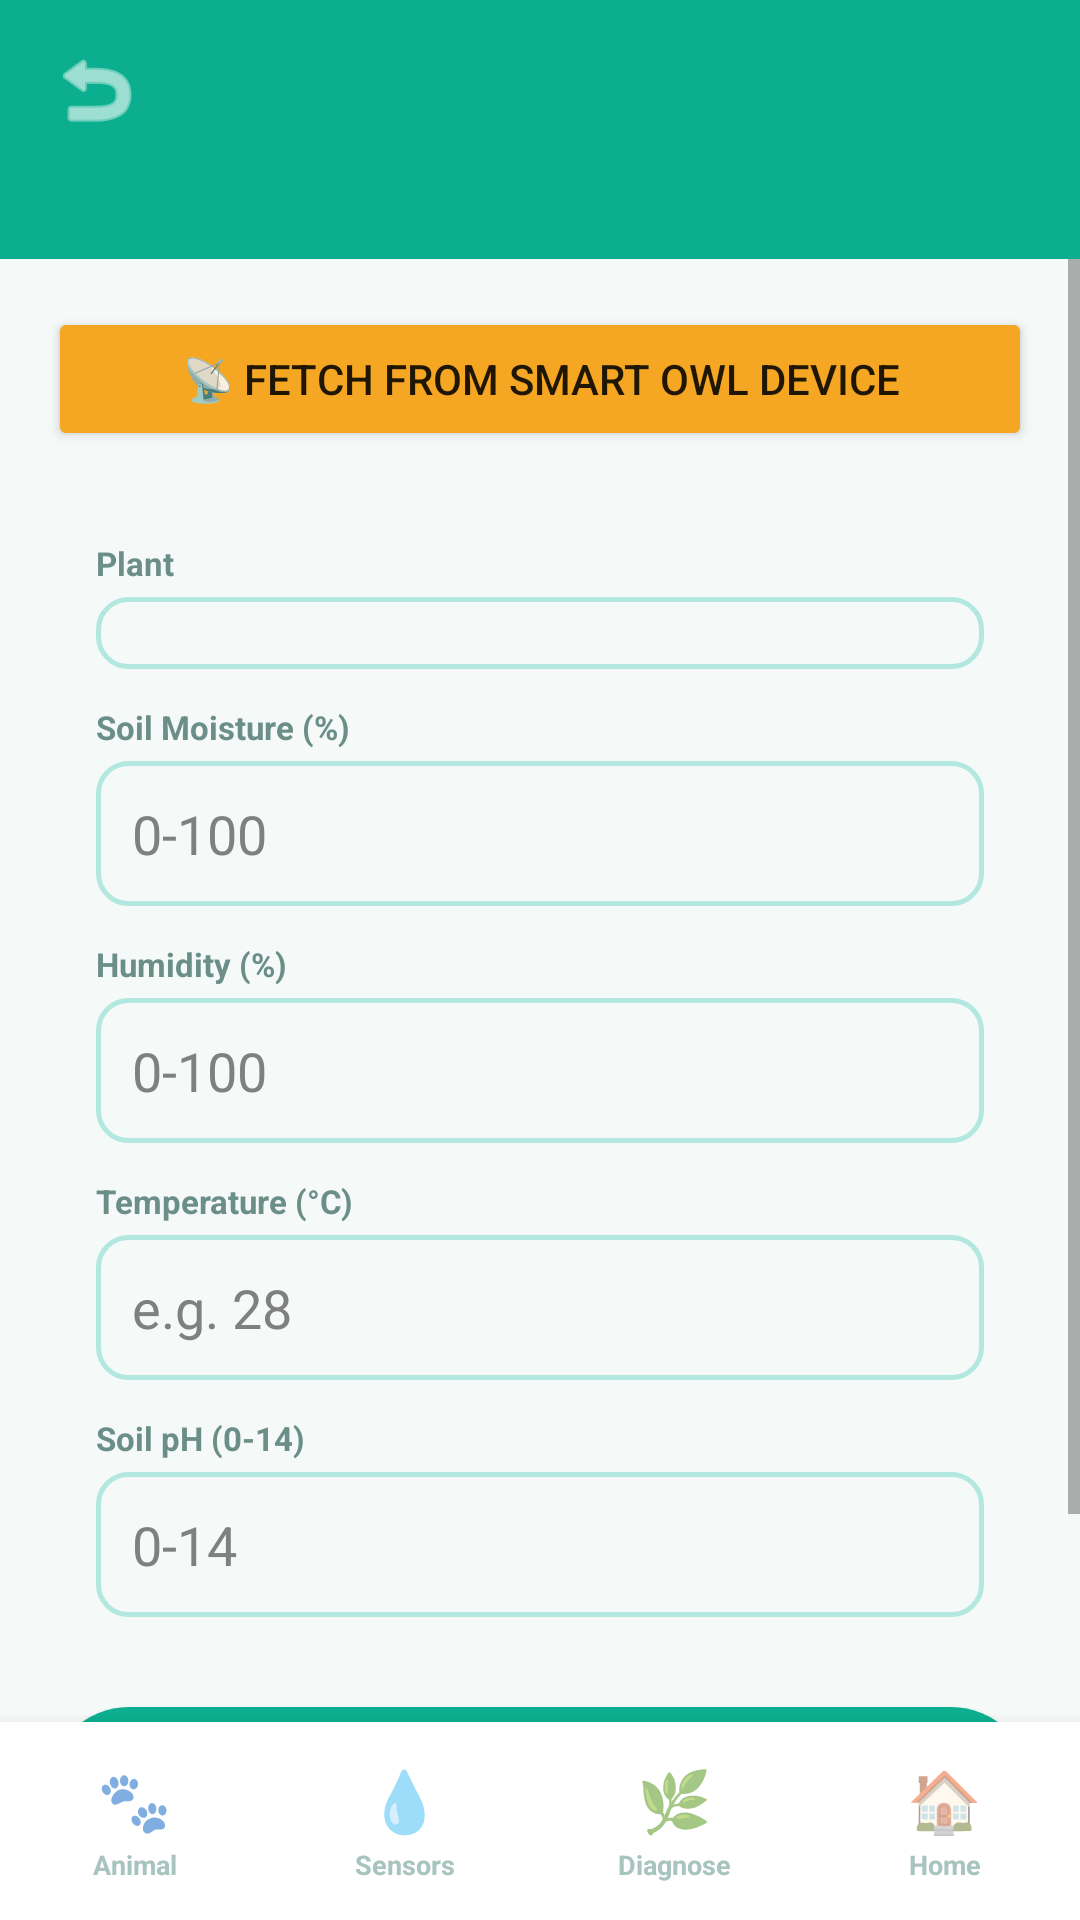

Named icons in this screenshot (1080x1920) and their bounding boxes, (x1, y1, x2, y2):
Back: (63, 59, 132, 122)
